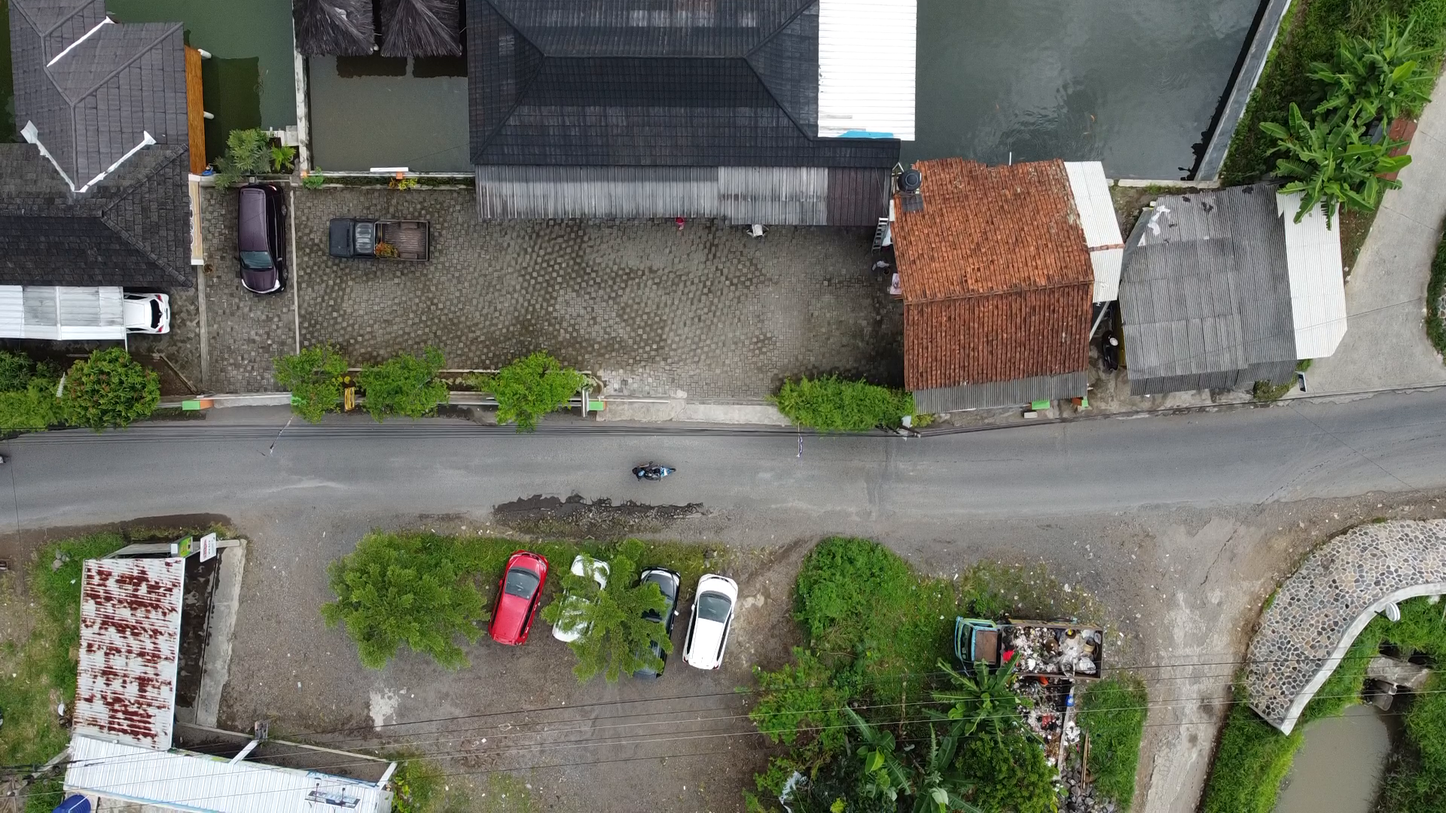mobil: (225, 166, 304, 305), (328, 208, 448, 271), (686, 562, 742, 690), (484, 539, 545, 655), (554, 531, 609, 644), (630, 567, 682, 683)
